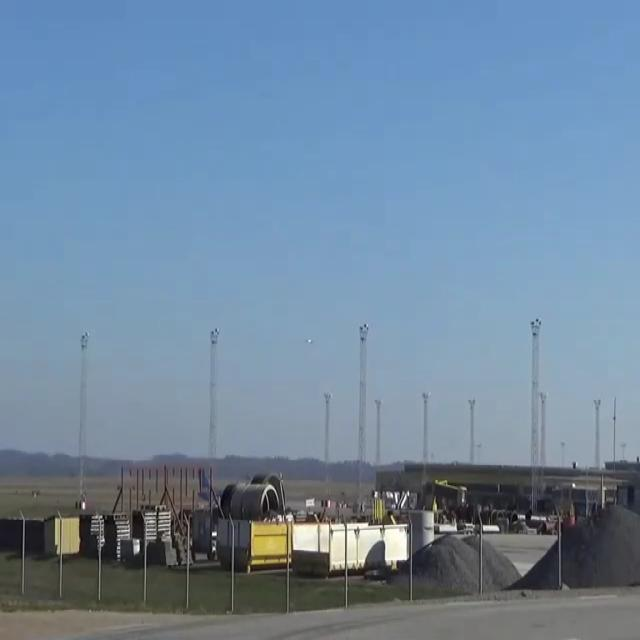AirPlane: (300, 332, 320, 351)
